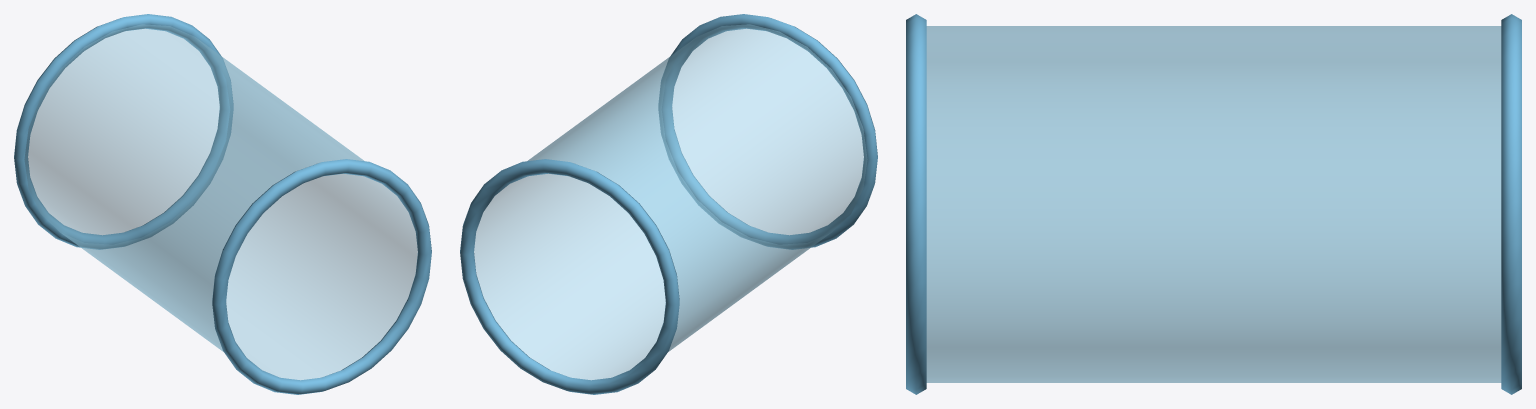
The model's file is tube_straight_long.glb.
3 renders of one model, left to right at view 1: azimuth 30°, elevation 25°; view 2: azimuth 150°, elevation 25°; view 3: azimuth 270°, elevation 25°, orthographic. The views are drawn at different scales.
Parts seen in each view (by area): view 1: tube_body, tube_rims; view 2: tube_body, tube_rims; view 3: tube_body, tube_rims.
Part boxes in pixels (left/top/right/bottom): tube_body: left=24, top=24, right=417, bottom=380; tube_rims: left=14, top=14, right=431, bottom=394; tube_body: left=474, top=24, right=867, bottom=380; tube_rims: left=460, top=14, right=877, bottom=394; tube_body: left=926, top=26, right=1501, bottom=382; tube_rims: left=906, top=14, right=1521, bottom=394.
Bounding box in the file's own units: 0.64 × 0.64 × 1.03.
